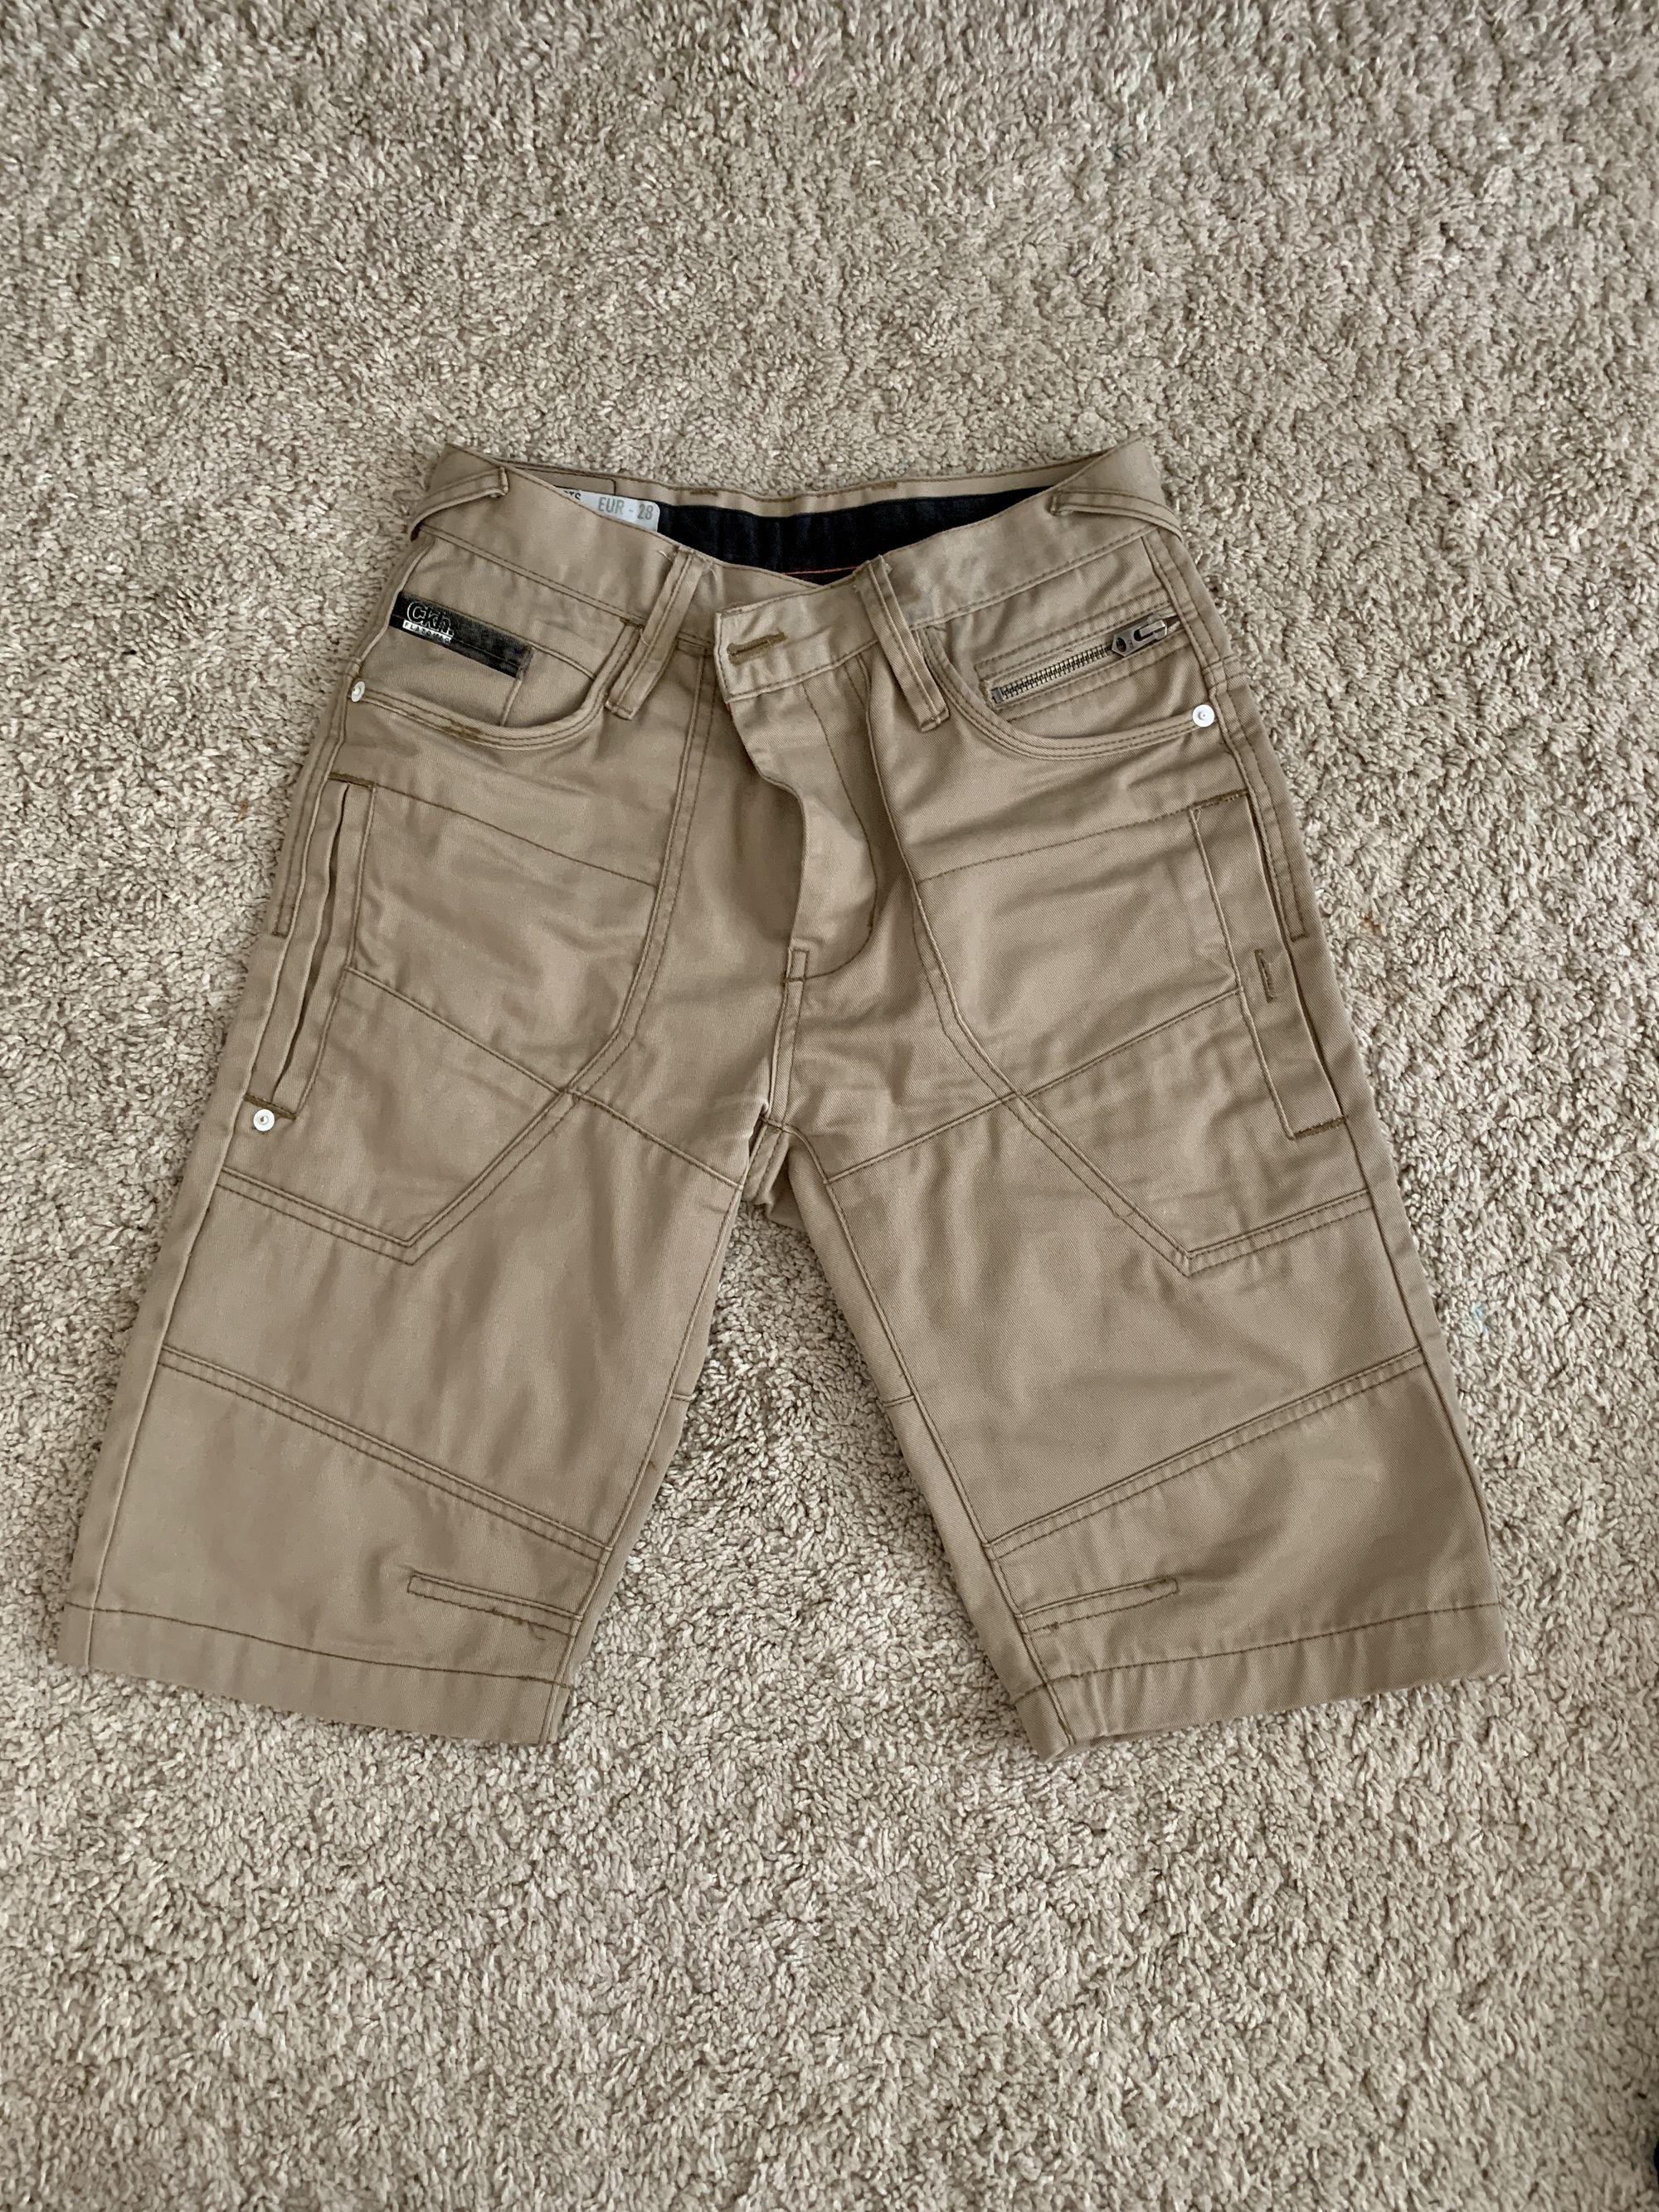clothes: (59, 425, 1513, 1761)
